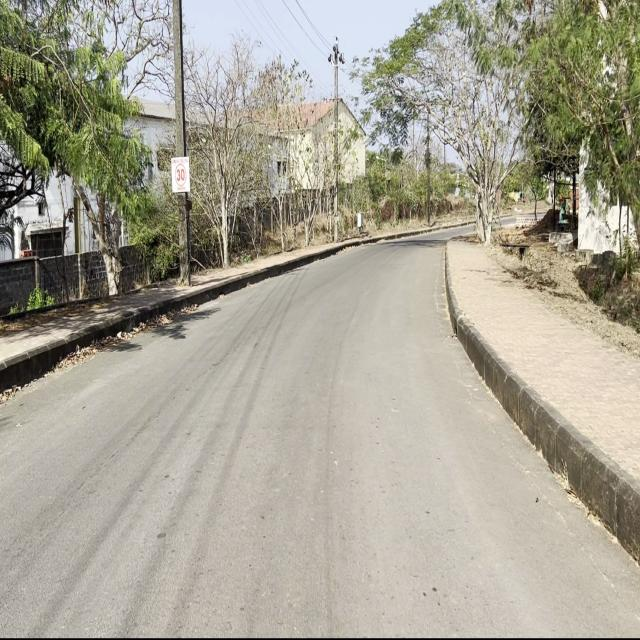Road: (3, 238, 638, 633)
